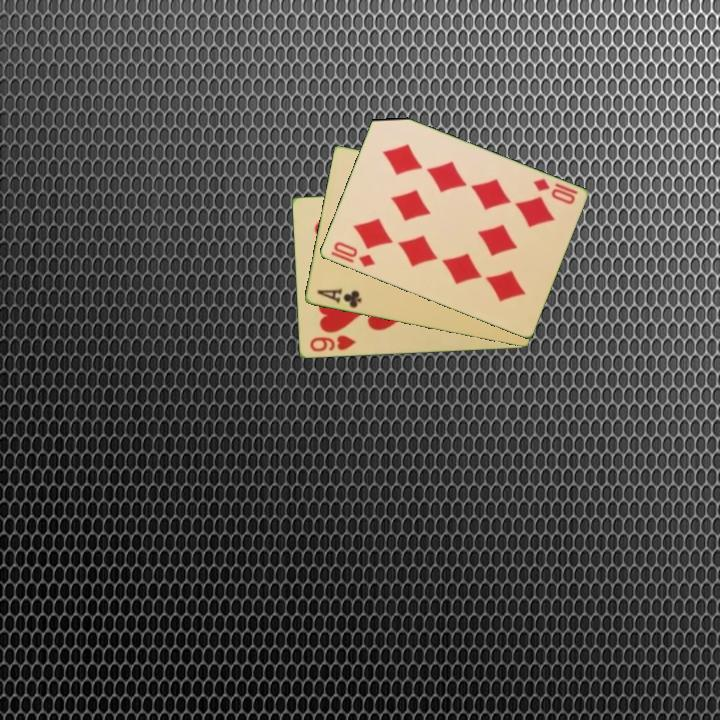10d: (529, 175, 581, 208), (330, 238, 378, 270)
9h: (306, 332, 359, 355)
Ac: (313, 285, 364, 311)
